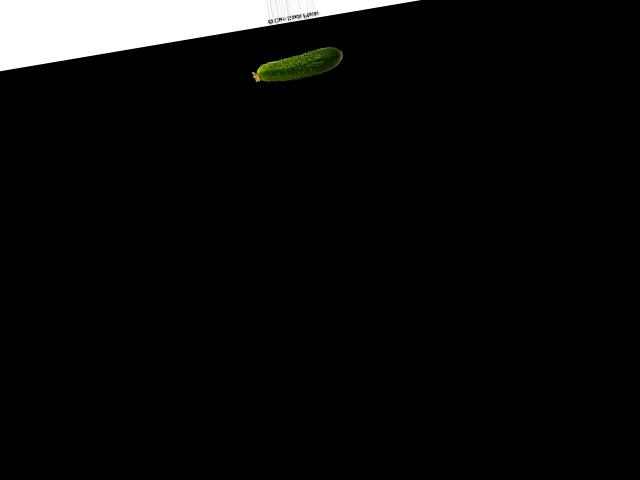cucumber: (250, 44, 345, 86)
